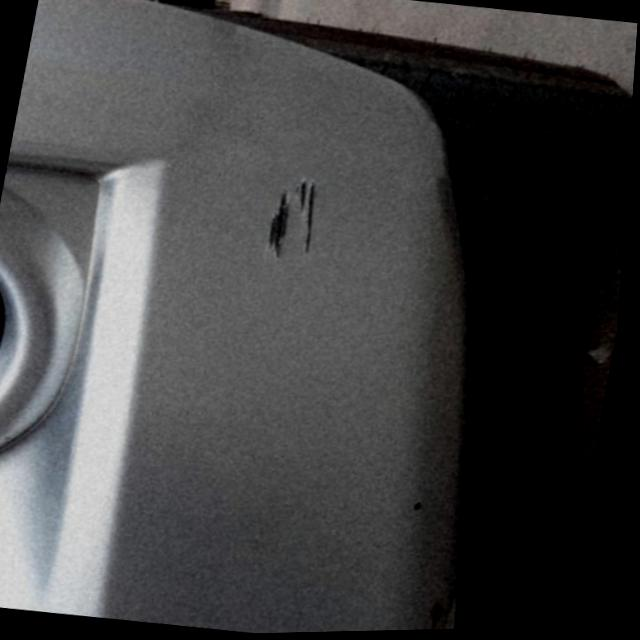Scratch: (262, 191, 291, 252), (297, 177, 316, 257), (425, 590, 443, 629), (408, 498, 427, 517)
